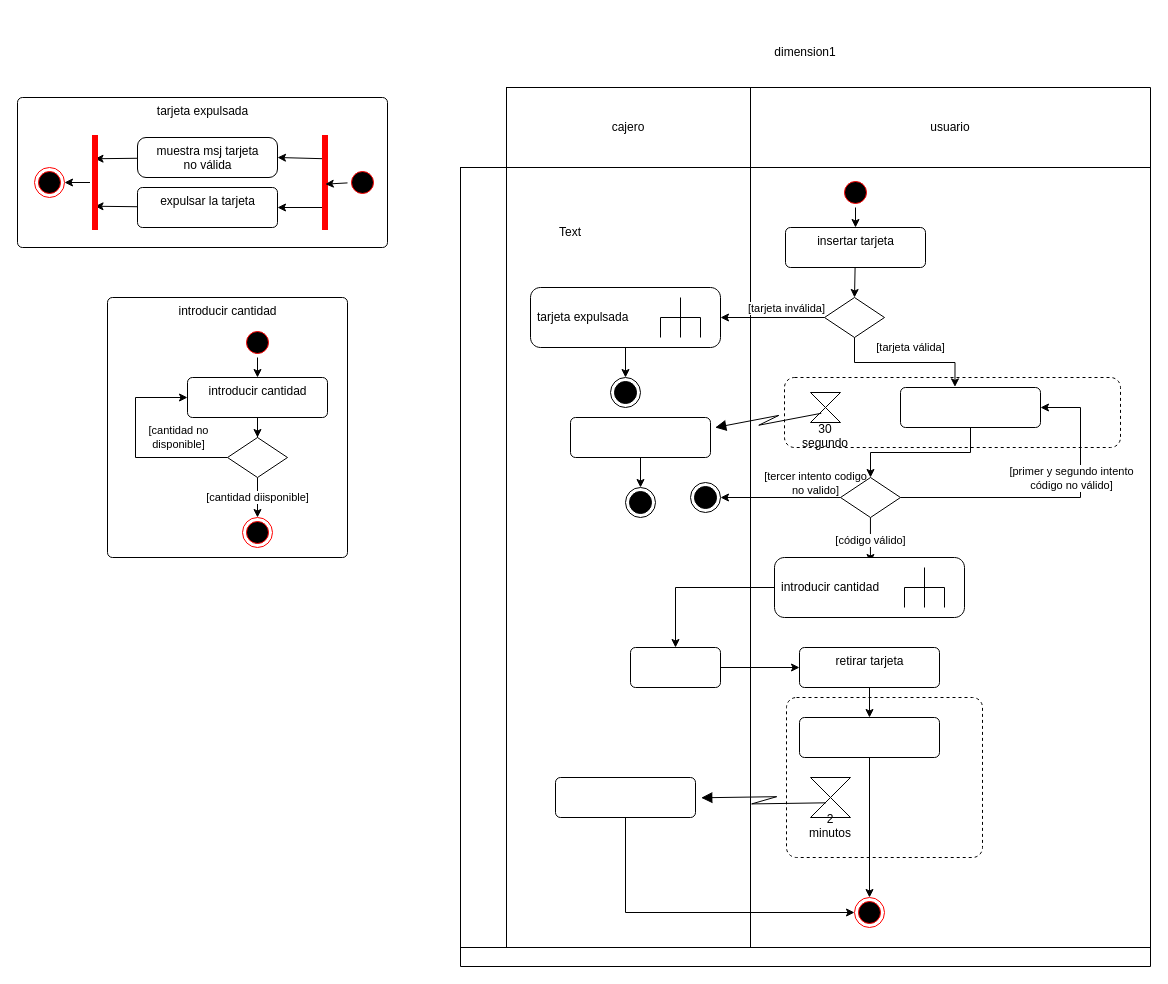
Some shapes in this 1168 by 984 pixel diagram are drawn without their labels. The centre of each missing label's shape, as x and y in pixels:
"arrojar dinero" goes at [675,667].
"expular tarjeta" goes at [640,437].
"introducir código" goes at [970,407].
"retemer el dinero" goes at [625,797].
"retirar dinero" goes at [869,737].
